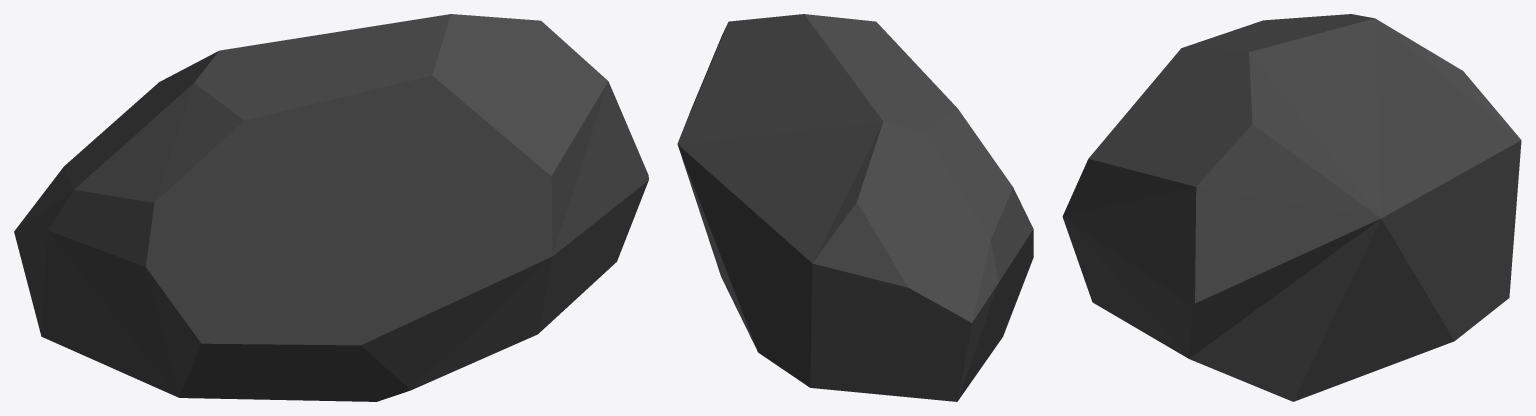
File: rock_7.FBX
3 renders of one model, left to right at view 1: azimuth 30°, elevation 25°; view 2: azimuth 150°, elevation 25°; view 3: azimuth 270°, elevation 25°, orthographic. The views are drawn at different scales.
Parts seen in each view (by area): view 1: rock_7; view 2: rock_7; view 3: rock_7.
Boxes of the visible parts, x1,y1,x2,y2 form: rock_7: [14, 14, 648, 401]; rock_7: [677, 14, 1033, 401]; rock_7: [1062, 14, 1521, 401].
Size of the model in its own units: 1.84 by 1.17 by 1.56.
1 material, 1 textured.
